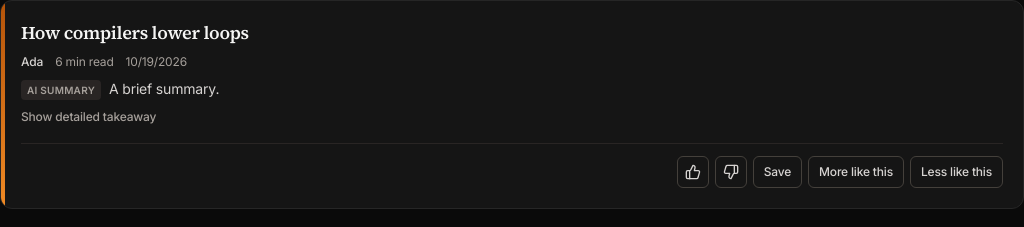
Test: ContentCard › toggles between the brief and detailed summary
Check: the text "A brief summary." is shown, box [109,80,219,97]
Click the button "Show detailed takeaway". click: click(89, 116)
box: [21,108,156,124]
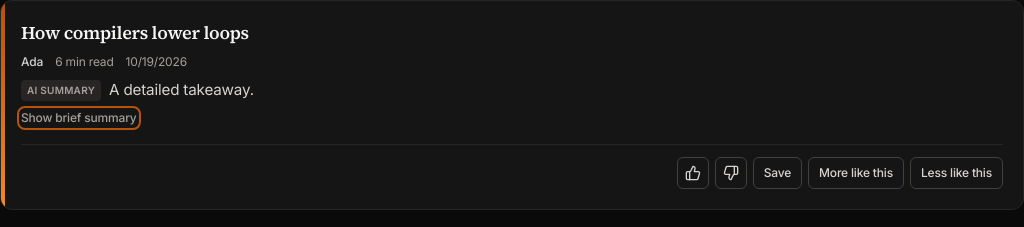
Check: the text "A detailed takeaway." is shown, box [109,80,254,99]
